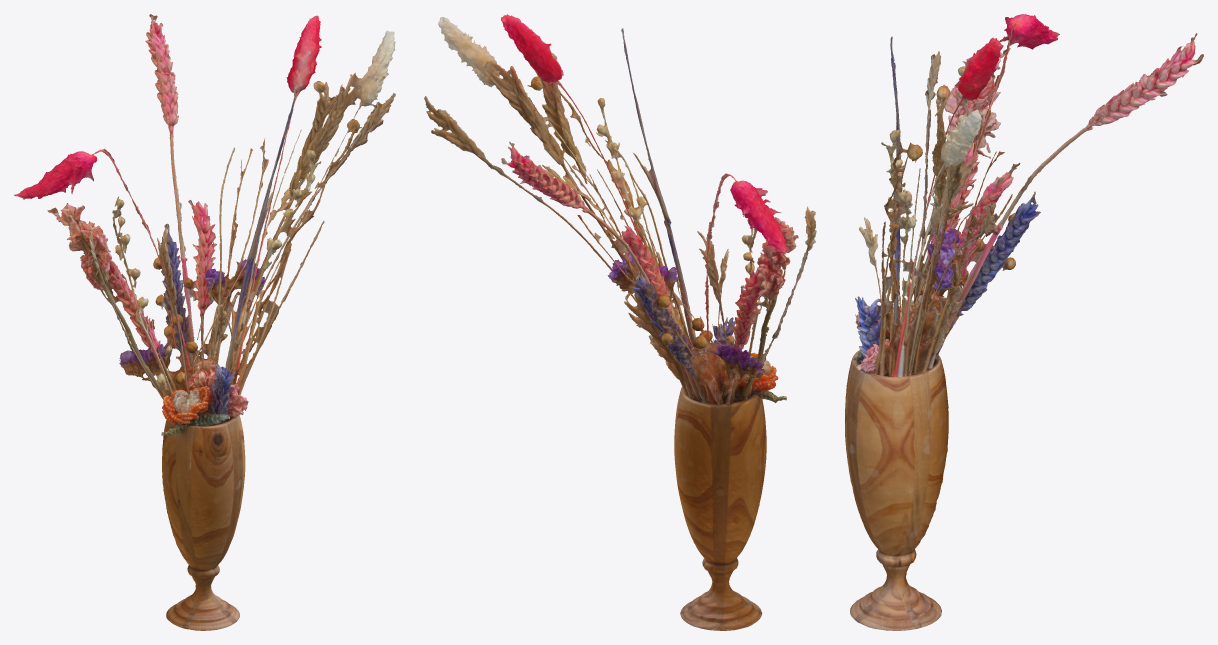
The model's file is flowers2.glb.
3 views of the same model, side by side, from view 1: azimuth 30°, elevation 25°; view 2: azimuth 150°, elevation 25°; view 3: azimuth 270°, elevation 25° (orthographic). The views are drawn at different scales.
Visible parts, largest first — view 1: dried flowers; view 2: dried flowers; view 3: dried flowers.
Boxes of the visible parts, x1,y1,x2,y2 form: dried flowers: (14, 14, 395, 630); dried flowers: (424, 14, 816, 630); dried flowers: (845, 14, 1203, 630).
Size of the model in its own units: 34.23 by 49.19 by 24.07.
1 material, 1 textured.
